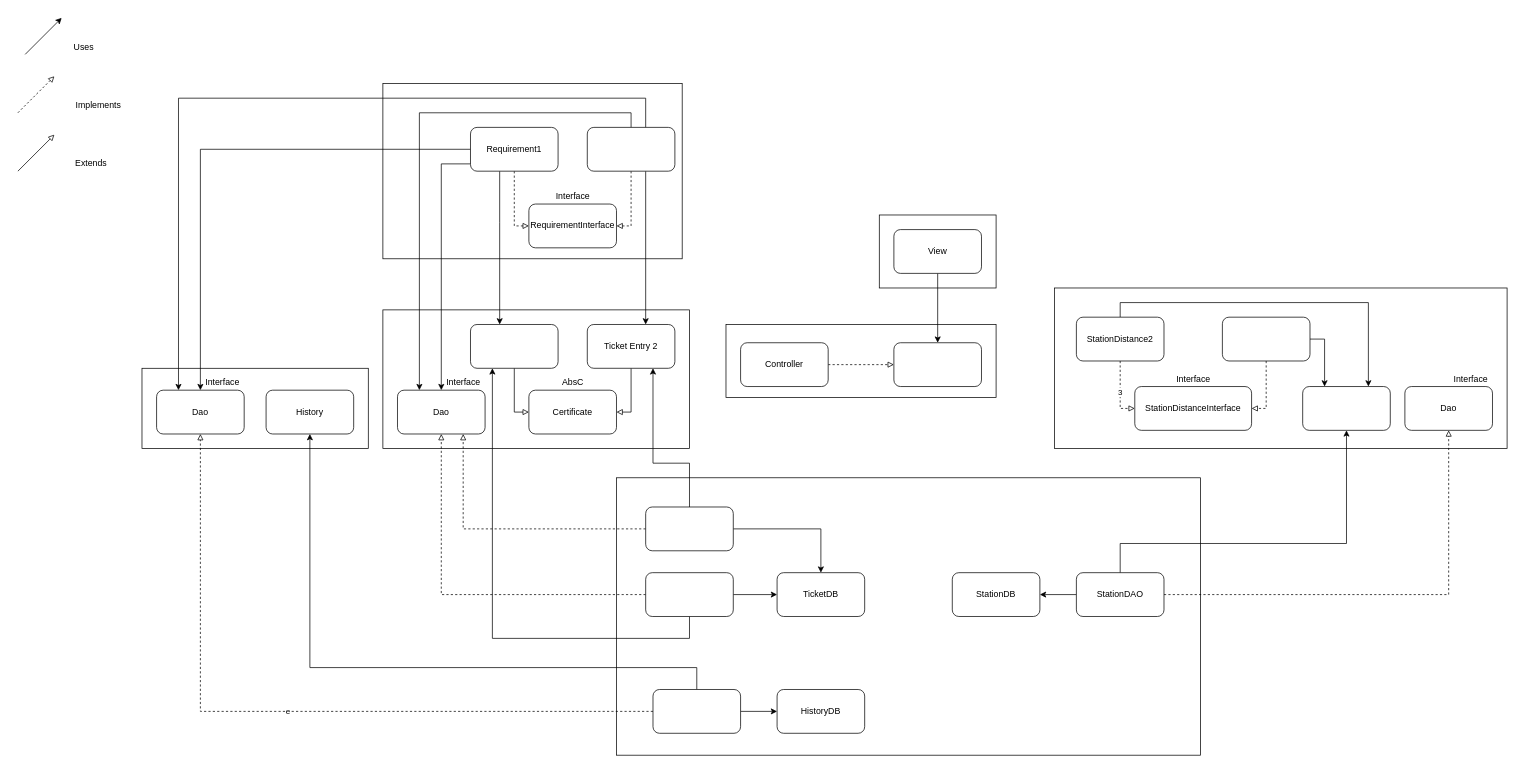
This 1520x768 diagram has some shape labels left out. The centre of each missing label's shape, as x and y in pixels:
"ControllerInterface" belongs at point (937, 364).
"HistoryDAO" belongs at point (696, 711).
"Requirement2" belongs at point (631, 149).
"Station" belongs at point (1346, 408).
"StationDistance1" belongs at point (1266, 338).
"Ticket entry 1" belongs at point (514, 346).
"Ticket1DAO" belongs at point (689, 594).
"Ticket2DAO" belongs at point (689, 528).
